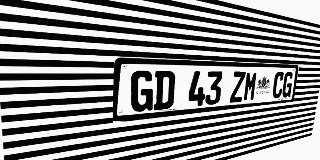3: (205, 71, 223, 105)
4: (188, 71, 207, 107)
C: (272, 72, 285, 99)
D: (153, 71, 176, 110)
G: (130, 70, 154, 113), (281, 72, 294, 98)
M: (243, 71, 258, 101)
Z: (230, 71, 246, 103)
